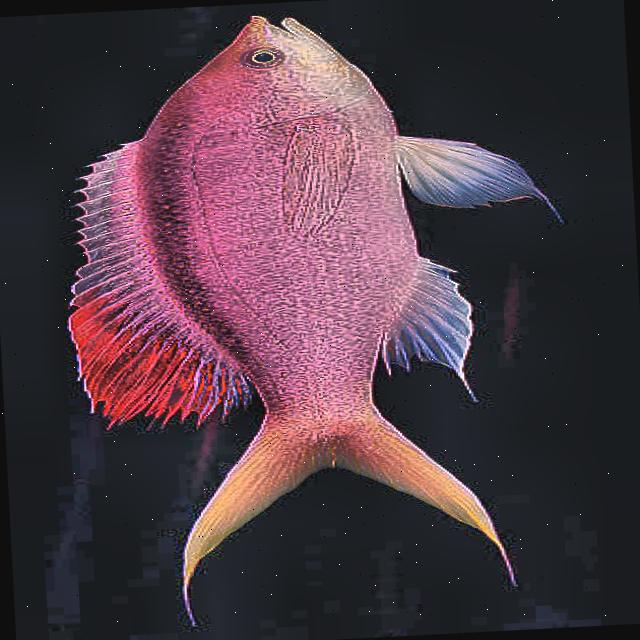fish: (50, 0, 583, 631)
